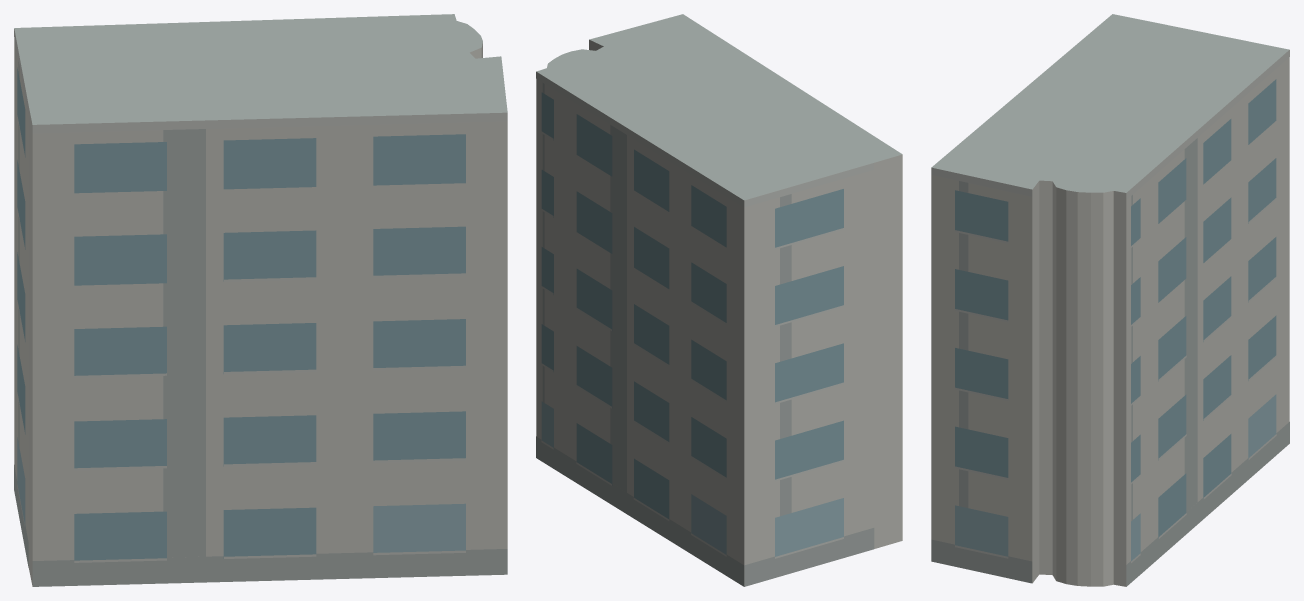
The model's file is survey-upis-32908014.glb.
3 renders of one model, left to right at view 1: azimuth 30°, elevation 25°; view 2: azimuth 150°, elevation 25°; view 3: azimuth 270°, elevation 25°, orthographic. The views are drawn at different scales.
Parts seen in each view (by area): view 1: survey-upis-32908014.tmp; view 2: survey-upis-32908014.tmp; view 3: survey-upis-32908014.tmp.
Part boxes in pixels (x1=…): survey-upis-32908014.tmp: x1=14, y1=14, x2=507, y2=586; survey-upis-32908014.tmp: x1=536, y1=14, x2=902, y2=586; survey-upis-32908014.tmp: x1=931, y1=14, x2=1289, y2=586.
Size of the model in its own units: 12.87 by 13.2 by 10.89.
